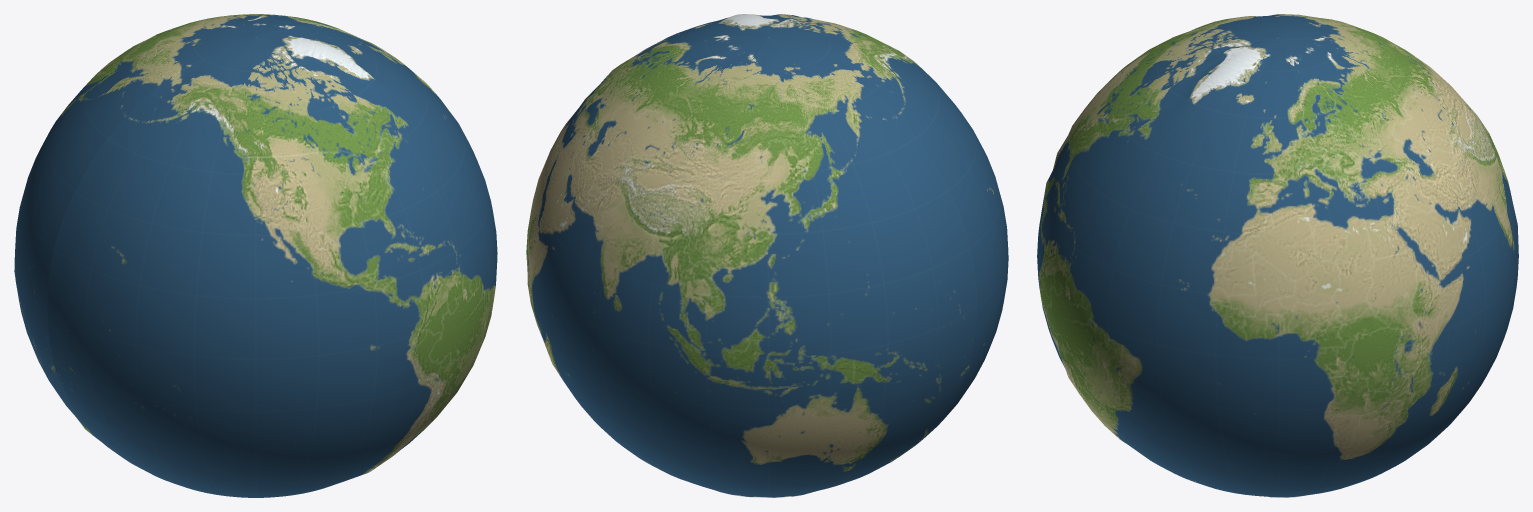
Rendered from SM_Earth_LOD2.fbx.
3 renders of one model, left to right at view 1: azimuth 30°, elevation 25°; view 2: azimuth 150°, elevation 25°; view 3: azimuth 270°, elevation 25°, orthographic.
Parts seen in each view (by area): view 1: SM_Earth_LOD2; view 2: SM_Earth_LOD2; view 3: SM_Earth_LOD2.
Part boxes in pixels (x1,y1,x2,y2): SM_Earth_LOD2: (14,14,497,497); SM_Earth_LOD2: (526,14,1008,497); SM_Earth_LOD2: (1037,14,1518,497).
Size of the model in its own units: 2 by 2 by 2.01.
1 material, 1 textured.
